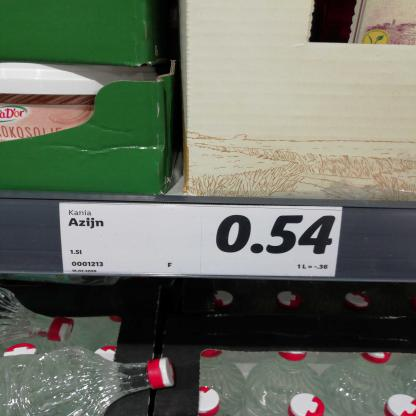prtg: (60, 203, 343, 278)
